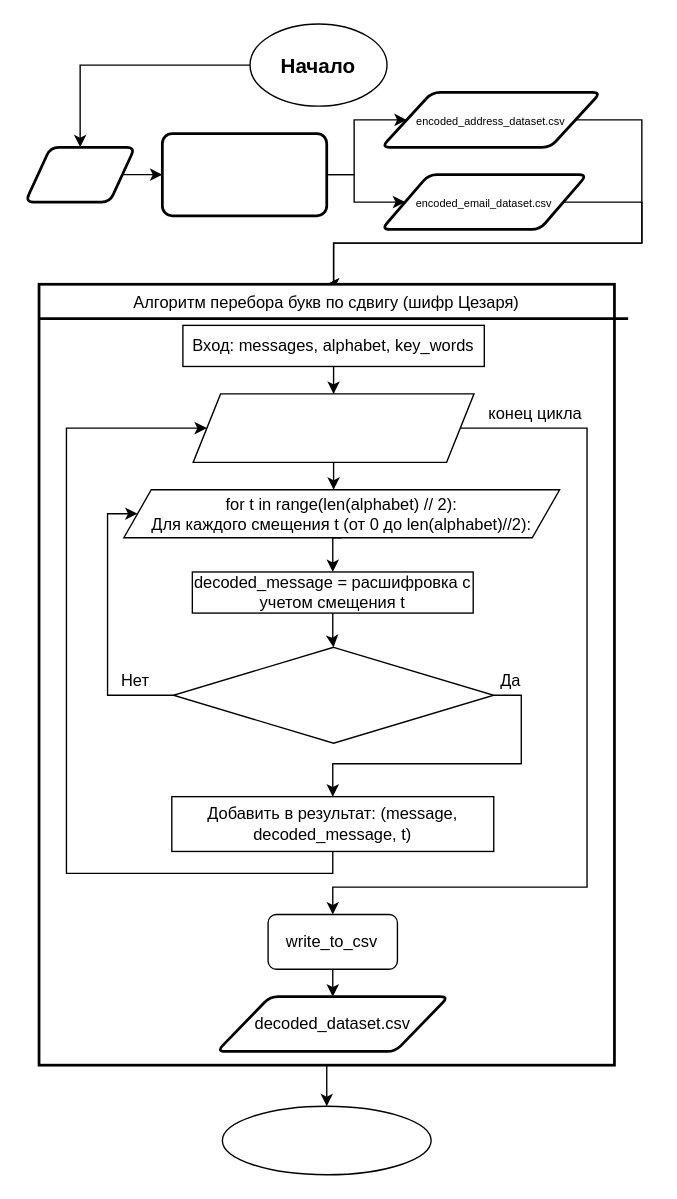
The diagram is 677 pixels wide and 1199 high, and some of its shapes have lost their labels. The shapes that lost their labels are listed below. From the top down, each one's centre as x and y in pixels, then its label:
At pixel 79 174: "data.xlsx".
At pixel 243 174: "csv_writer.py".
At pixel 333 427: "for message in messages: Для каждого сообщения в messages:".
At pixel 333 694: "contains_key(decoded_message, key_words)".
At pixel 326 1140: "Конец".
